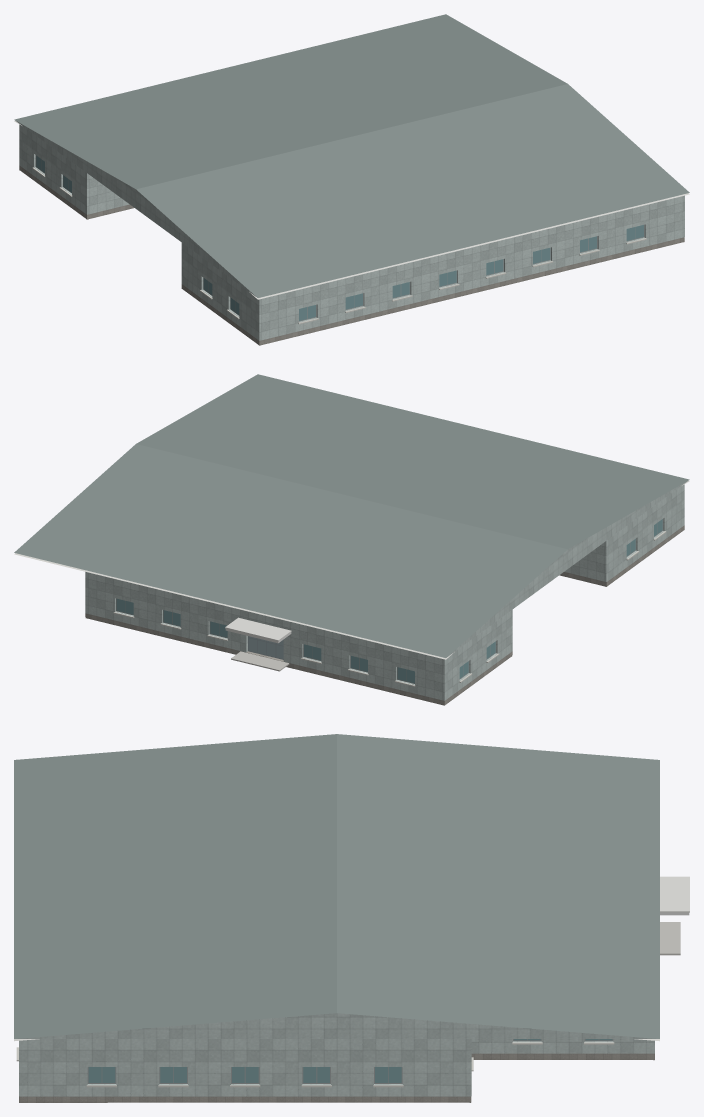
The picture shows the model from 3 angles, top to bottom: view 1: azimuth 30°, elevation 25°; view 2: azimuth 150°, elevation 25°; view 3: azimuth 270°, elevation 25°; orthographic projection. The views are drawn at different scales.
Visible parts, largest first — view 1: glass__roof, glass__wall, glass__plinth, glass__glass, glass__foundation, glass__cap, glass__frame, glass__band; view 2: glass__roof, glass__wall, glass__plinth, glass__glass, glass__cap, glass__foundation, glass__threshold-main, glass__doorglass; view 3: glass__roof, glass__wall, glass__plinth, glass__glass, glass__foundation, glass__cap, glass__band, glass__threshold-main, glass__frame.
Boxes of the visible parts, x1,y1,x2,y2 form: glass__roof: (14,14,689,297); glass__wall: (15,120,684,340); glass__plinth: (19,165,684,344); glass__glass: (36,155,643,320); glass__foundation: (19,166,684,345); glass__cap: (14,121,689,299); glass__frame: (35,155,644,321); glass__band: (32,167,646,324); glass__roof: (14,374,689,657); glass__wall: (85,480,688,700); glass__plinth: (85,525,684,704); glass__glass: (116,519,662,683); glass__cap: (14,481,689,659); glass__foundation: (85,526,684,705); glass__threshold-main: (231,651,289,671); glass__doorglass: (248,636,283,658); glass__roof: (14,734,659,1038); glass__wall: (18,1013,655,1096); glass__plinth: (19,1053,654,1101); glass__glass: (88,1039,612,1082); glass__foundation: (19,1055,654,1102); glass__cap: (14,876,689,1041); glass__band: (16,1042,614,1087); glass__threshold-main: (660,922,680,955); glass__frame: (87,1039,613,1083).
Size of the model in its own units: 46.12 by 7.08 by 47.2.
12 materials, 4 textured.
